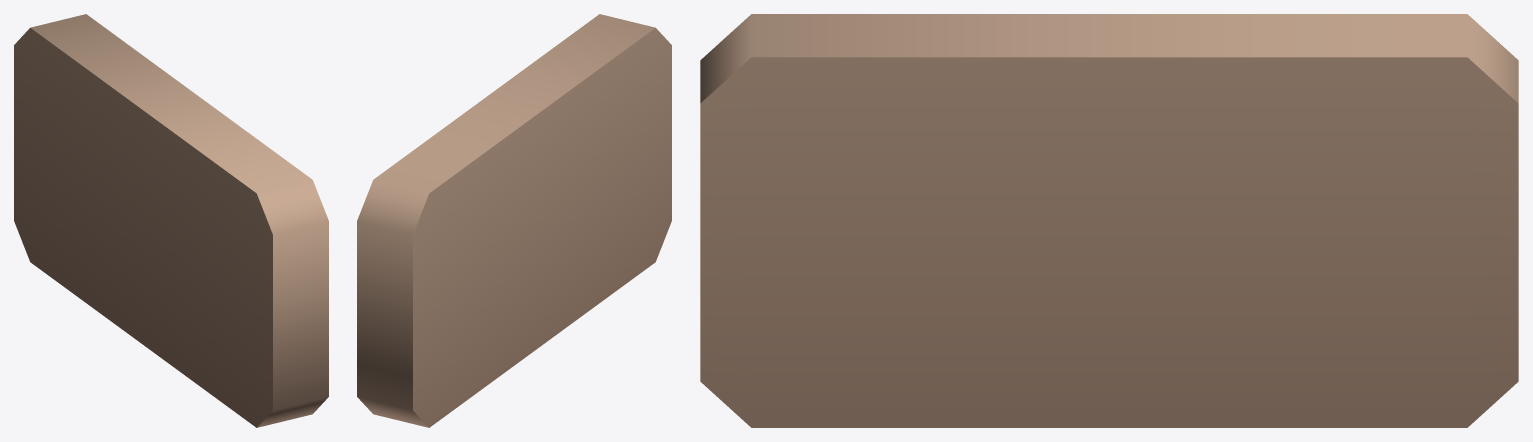
The model's file is brick-wide-thin (%wall).glb.
3 views of the same model, side by side, from view 1: azimuth 30°, elevation 25°; view 2: azimuth 150°, elevation 25°; view 3: azimuth 270°, elevation 25° (orthographic). The views are drawn at different scales.
Parts seen in each view (by area): view 1: brick-wide-thin (%wall); view 2: brick-wide-thin (%wall); view 3: brick-wide-thin (%wall).
Part boxes in pixels (left/top/right/bottom): brick-wide-thin (%wall): left=14, top=14, right=328, bottom=427; brick-wide-thin (%wall): left=357, top=14, right=671, bottom=427; brick-wide-thin (%wall): left=700, top=14, right=1518, bottom=427.
Bounding box in the file's own units: 0.05 × 0.2 × 0.4.
